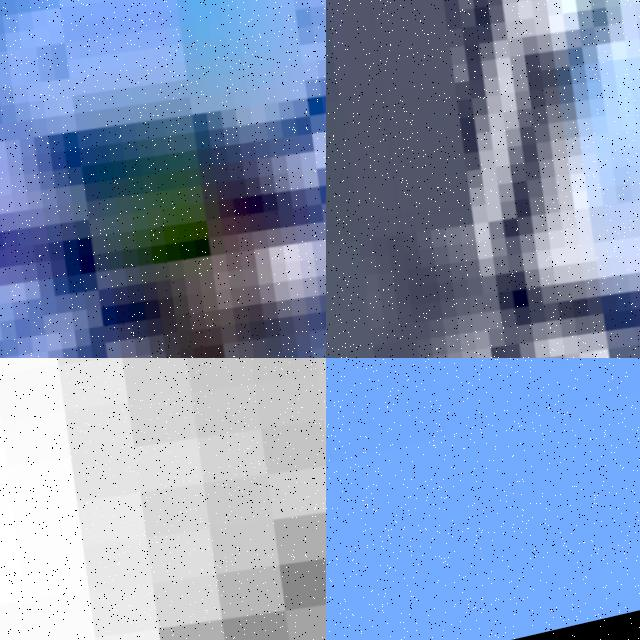0: (0, 0, 326, 358), (326, 0, 640, 358)
drone: (0, 358, 326, 640)
